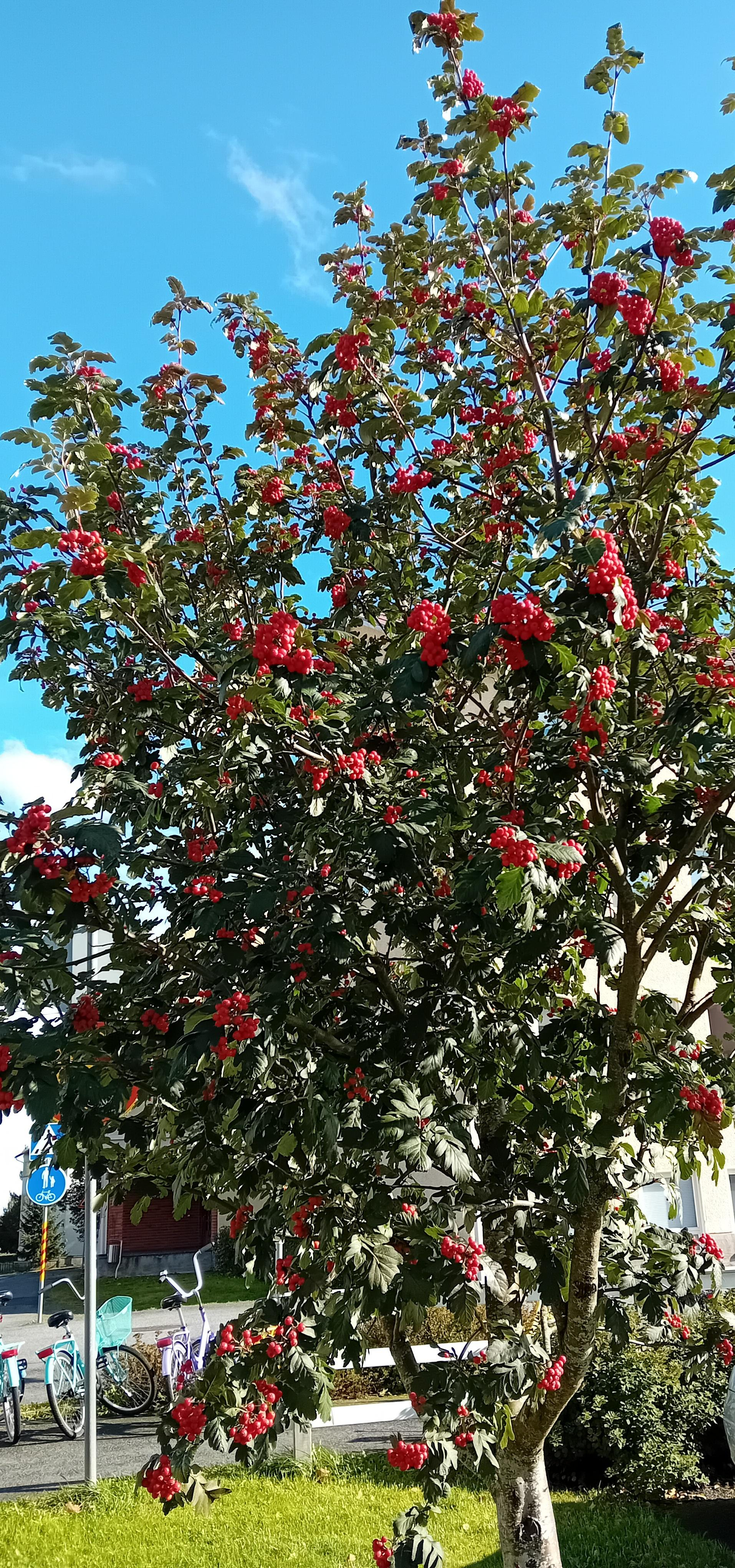Rowan: (2, 4, 733, 1563)
